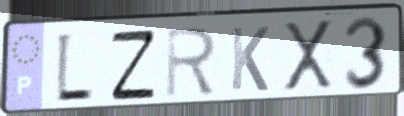3: (342, 14, 391, 93)
K: (228, 24, 271, 94)
L: (54, 30, 96, 107)
R: (163, 24, 219, 100)
X: (281, 17, 336, 95)
Z: (109, 26, 158, 103)
